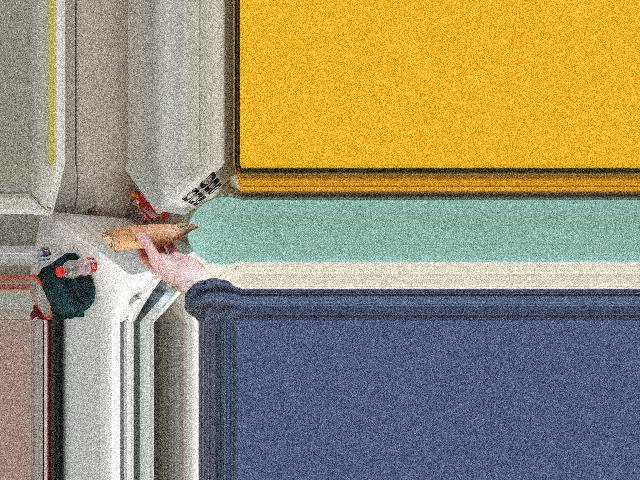sweet_potato: (103, 224, 194, 251)
